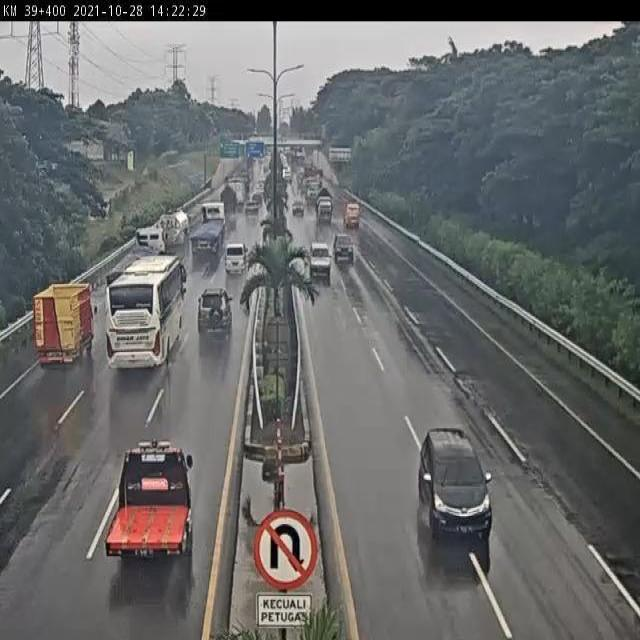ARABA: (417, 424, 496, 548), (196, 290, 232, 338), (222, 239, 252, 280), (307, 241, 332, 279), (332, 231, 354, 260)
KAMYONET: (99, 440, 192, 559), (32, 278, 98, 370), (150, 208, 186, 253)
OTOBUS: (106, 256, 185, 367)
TIR: (102, 230, 165, 290), (185, 200, 227, 261)
